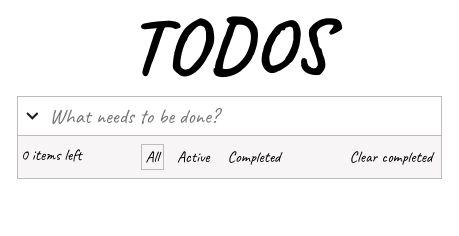
AppTodo Component › should clear completed tasks
Type "Task to complete" into the field with placeholder "What needs to be done?" at (242, 116), box [42,96,442,136]
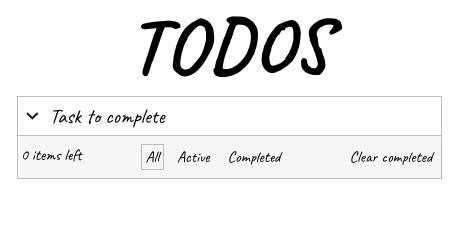
Press Enter in the field with placeholder "What needs to be done?", box [42,96,442,136]
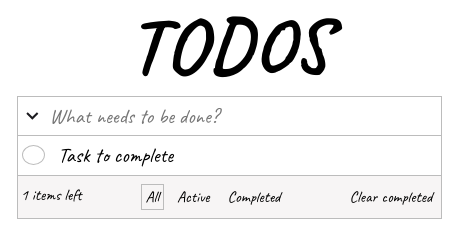
Click the button named "AcceptImage" next to "Task to complete" at (33, 156), box [16,136,50,176]
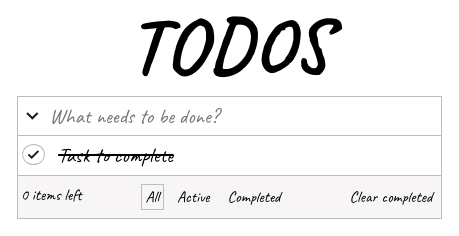
Click the button "Clear completed" at (391, 197), box [344,184,437,210]
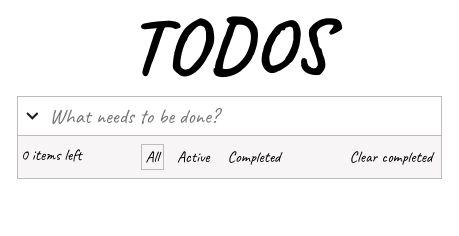
Expected: the list item "Task to complete" is gone
